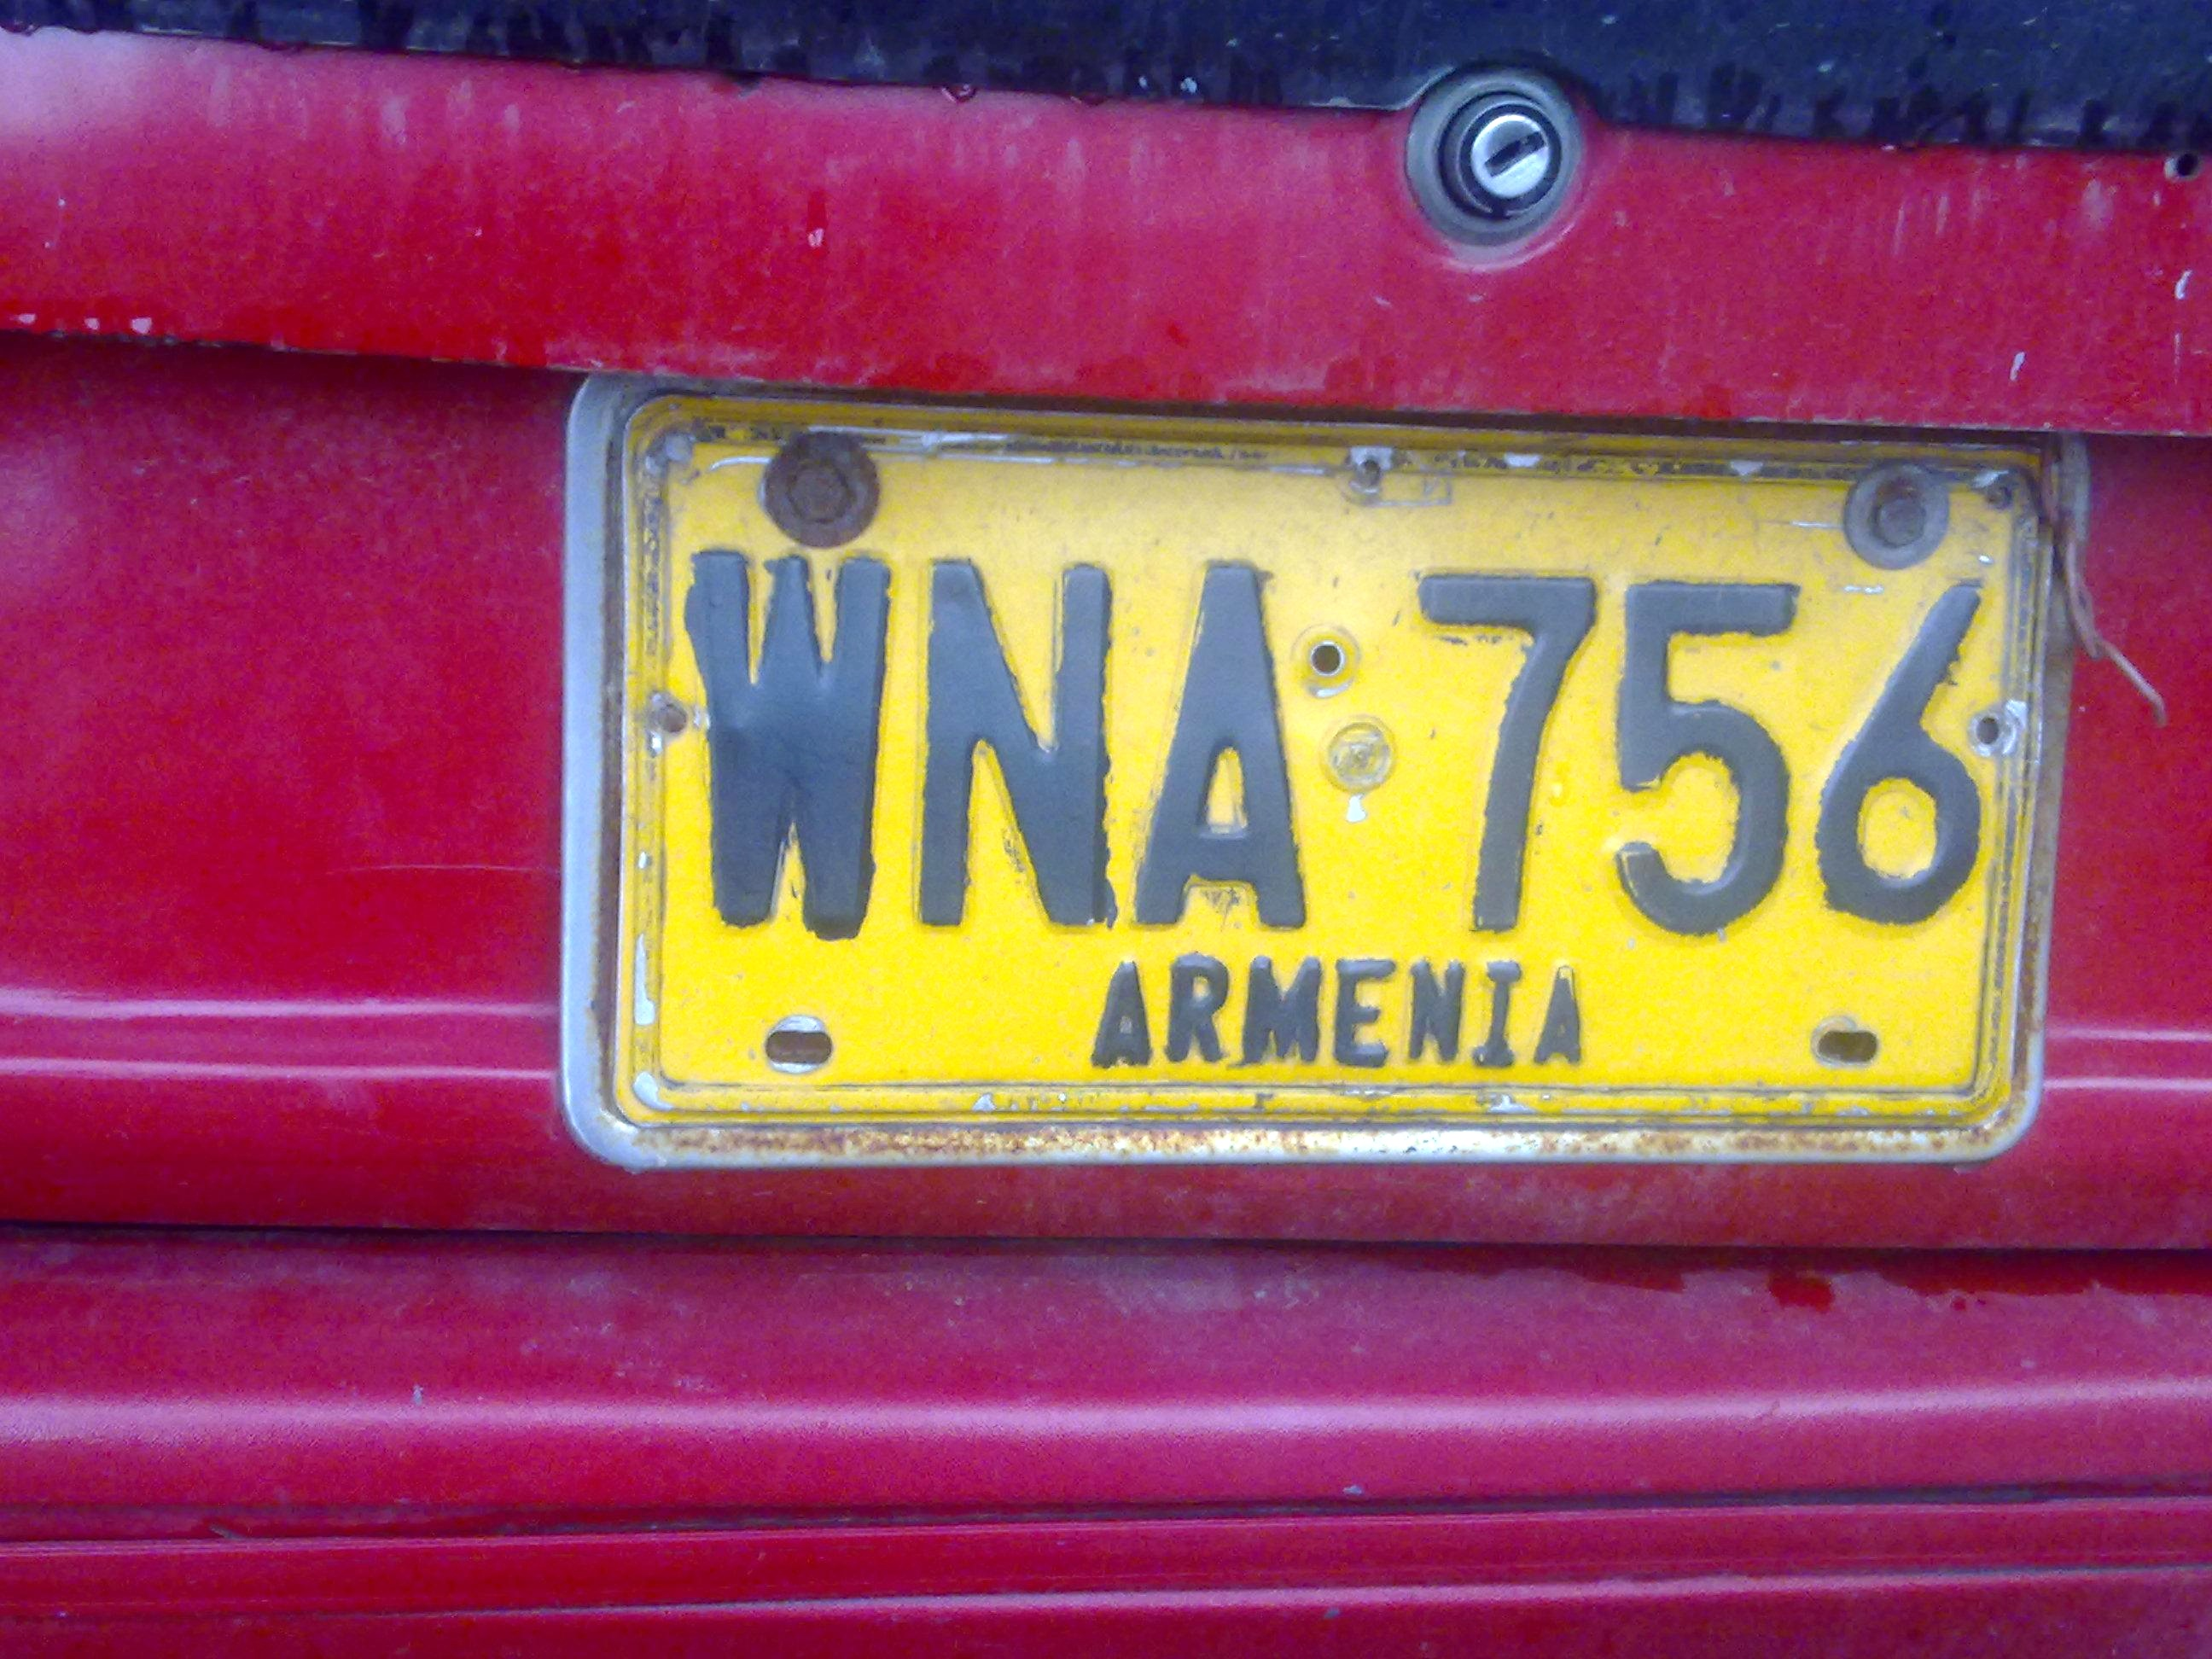placas: (553, 351, 2064, 1173)
